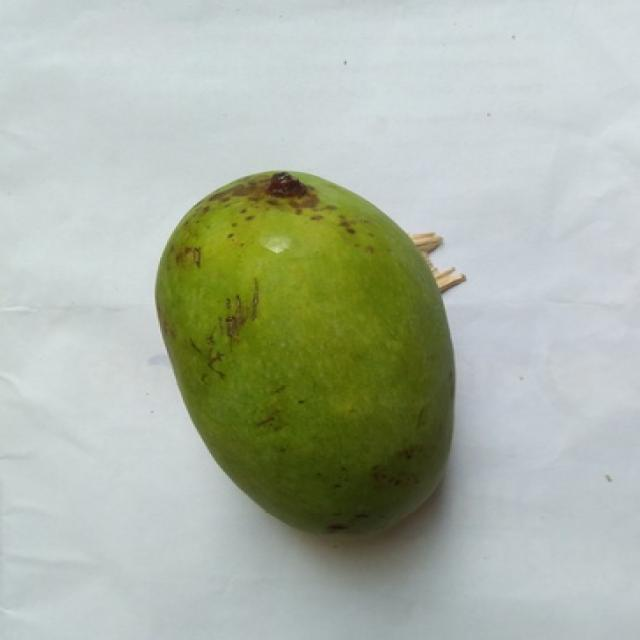Mango: (156, 172, 454, 531)
